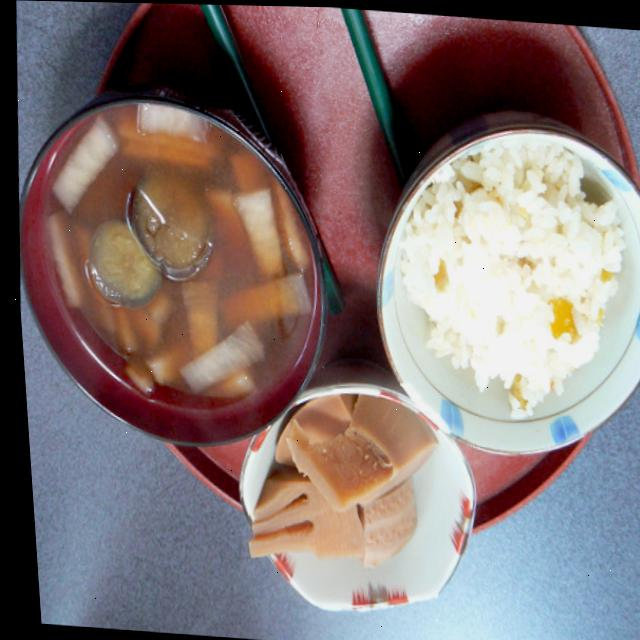米饭主食: (369, 108, 640, 459)
蔬菜料理: (4, 82, 335, 452)
